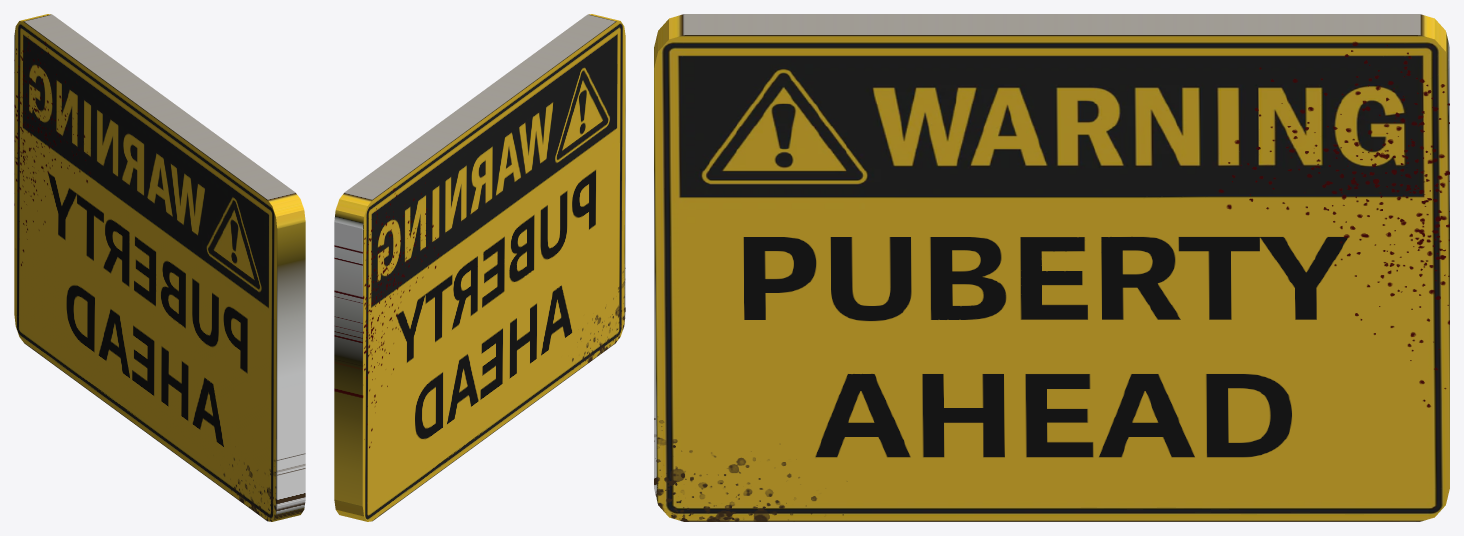
File: warning.fbx
The picture shows the model from 3 angles, left to right: view 1: azimuth 30°, elevation 25°; view 2: azimuth 150°, elevation 25°; view 3: azimuth 270°, elevation 25°; orthographic projection. The views are drawn at different scales.
Visible parts, largest first — view 1: Plane; view 2: Plane; view 3: Plane.
Part boxes in pixels (x1,y1,x2,y2): Plane: (14,14,305,521); Plane: (334,14,625,521); Plane: (654,14,1449,521).
Size of the model in its own units: 2.16 by 23.43 by 34.7.
